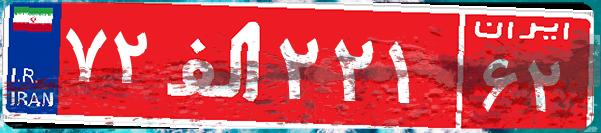1: (385, 28, 445, 110)
2: (273, 28, 330, 110), (330, 28, 385, 110), (110, 28, 158, 105), (525, 38, 570, 115)
6: (475, 38, 525, 113)
7: (57, 26, 110, 107)
الف: (158, 15, 273, 115)
